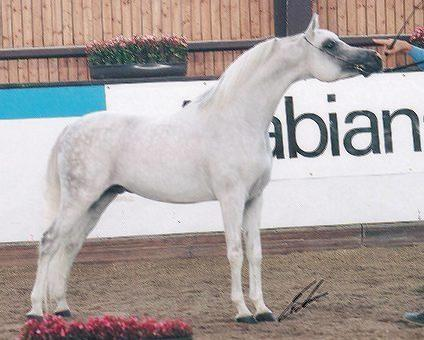horse: (25, 12, 383, 323)
